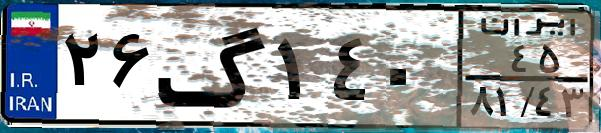0: (385, 28, 445, 110)
1: (270, 28, 330, 110), (495, 70, 520, 125)
2: (57, 26, 110, 100)
3: (560, 70, 590, 125)
4: (330, 28, 385, 110), (508, 27, 537, 80), (535, 70, 560, 125)
5: (537, 27, 568, 80)
6: (110, 28, 156, 98)
8: (470, 70, 495, 125)
گ: (156, 12, 270, 120)
